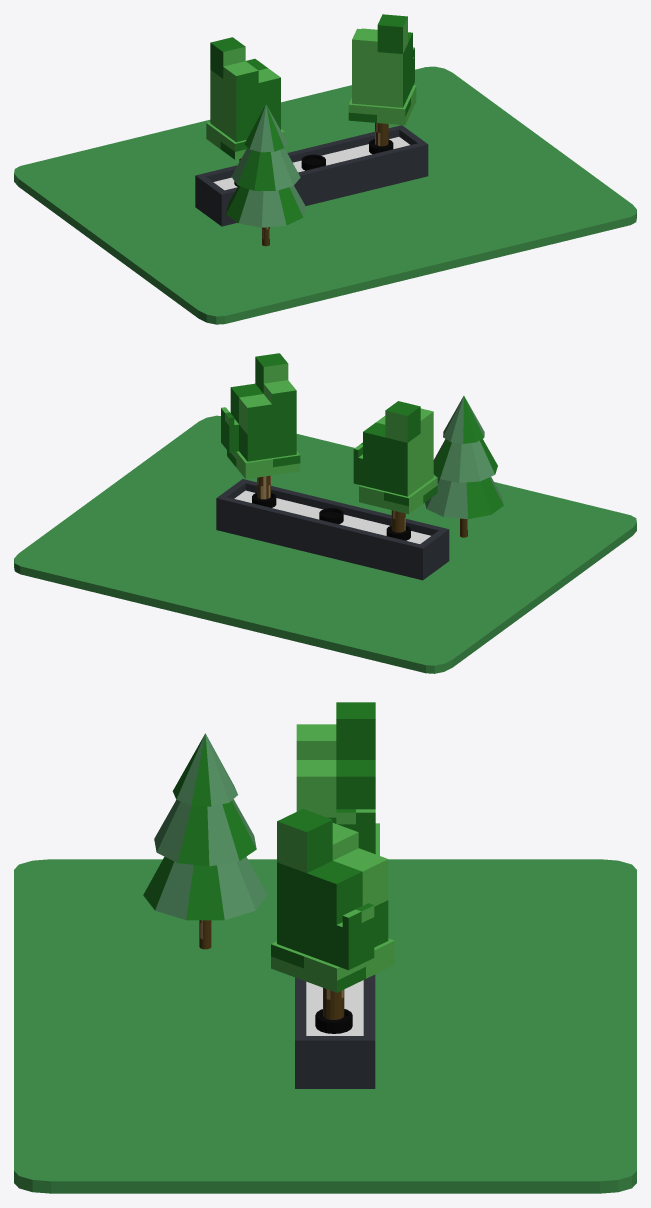
File: tree_set.fbx
3 renders of one model, top to bottom at view 1: azimuth 30°, elevation 25°; view 2: azimuth 150°, elevation 25°; view 3: azimuth 270°, elevation 25°, orthographic. The views are drawn at different scales.
Visible parts, largest first — view 1: Plane.008, Cube.047, Cube.063, Cylinder.022, Cube.062; view 2: Plane.008, Cube.047, Cube.063, Cube.062, Cylinder.022; view 3: Plane.008, Cube.063, Cylinder.022, Cube.062, Cube.047.
Part boxes in pixels (bbox=[...]): Plane.008: bbox=[14, 66, 636, 324]; Cube.047: bbox=[195, 125, 428, 226]; Cube.063: bbox=[348, 14, 416, 146]; Cylinder.022: bbox=[226, 104, 305, 246]; Cube.062: bbox=[206, 37, 284, 161]; Plane.008: bbox=[14, 415, 636, 673]; Cube.047: bbox=[216, 479, 449, 580]; Cube.063: bbox=[221, 353, 300, 499]; Cube.062: bbox=[353, 401, 437, 532]; Cylinder.022: bbox=[425, 396, 503, 537]; Plane.008: bbox=[14, 859, 636, 1193]; Cube.063: bbox=[271, 809, 394, 1019]; Cylinder.022: bbox=[143, 733, 267, 949]; Cube.062: bbox=[296, 702, 379, 855]; Cube.047: bbox=[295, 974, 375, 1088].
Bounding box in the file's own units: 28.74 × 10.69 × 23.49.
